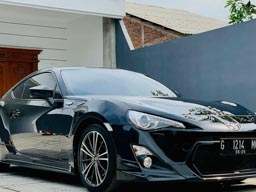plat: (221, 138, 255, 150)
